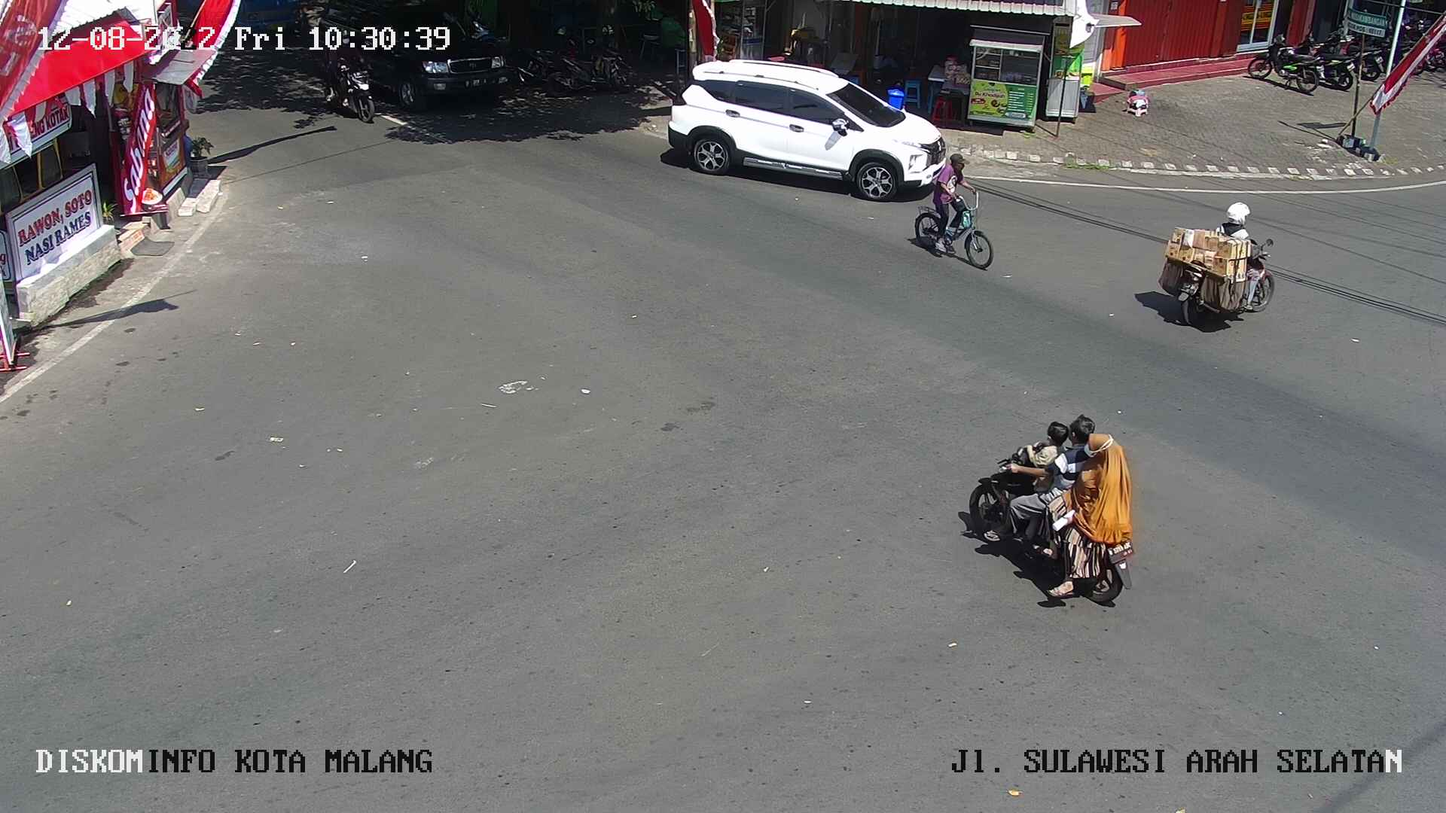with_helmet: (1148, 189, 1296, 343)
without_helmet: (966, 411, 1151, 633), (915, 141, 1001, 279)
